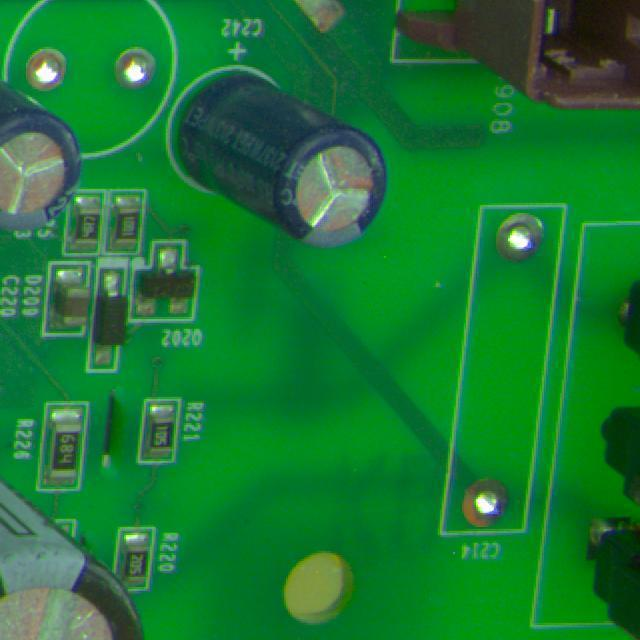Insufficient solder: (18, 41, 76, 103), (486, 210, 544, 271), (458, 473, 515, 531), (118, 41, 156, 90)
